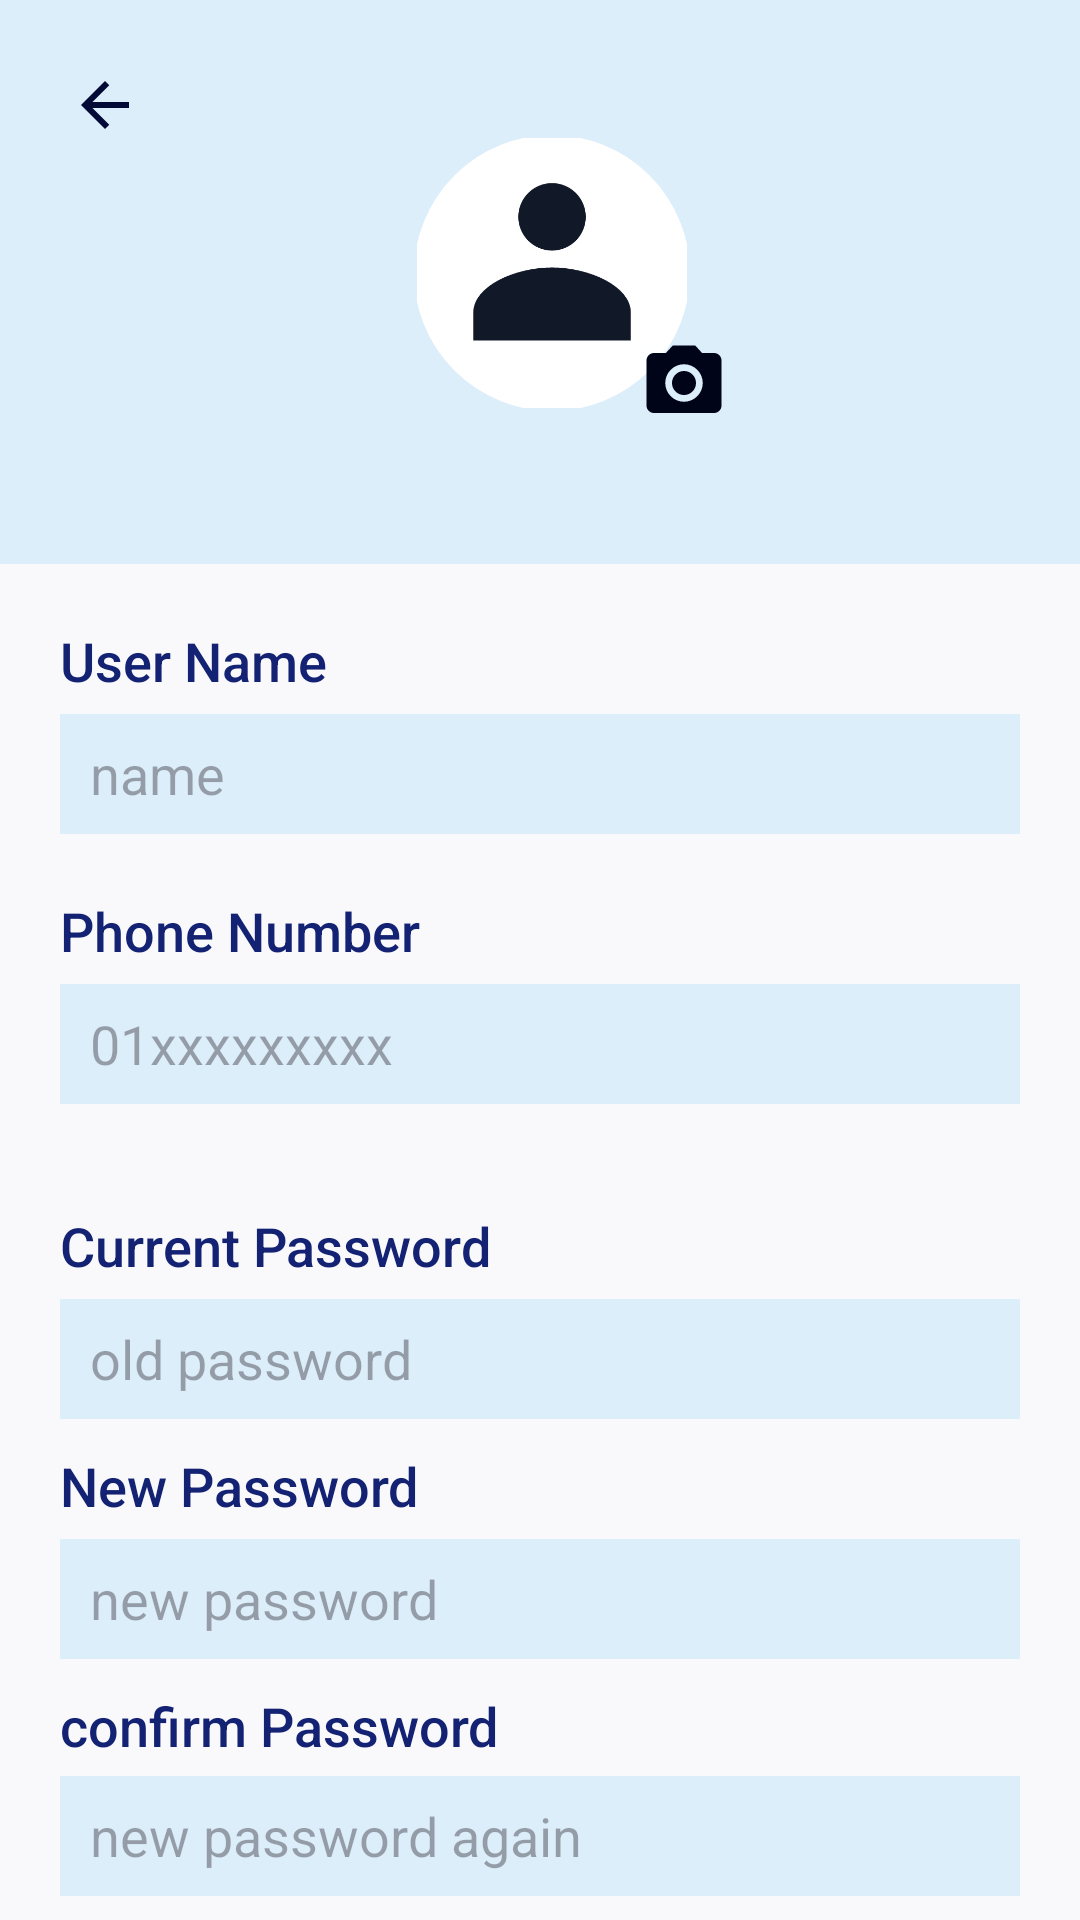

Icons on this 1080px x 1920px Android screen, each with its box as (left=x1, top=y1, right=x2, bottom=y2):
arrow back: (left=81, top=81, right=129, bottom=129)
camera: (left=639, top=345, right=722, bottom=413)
profile: (left=417, top=138, right=687, bottom=408)
